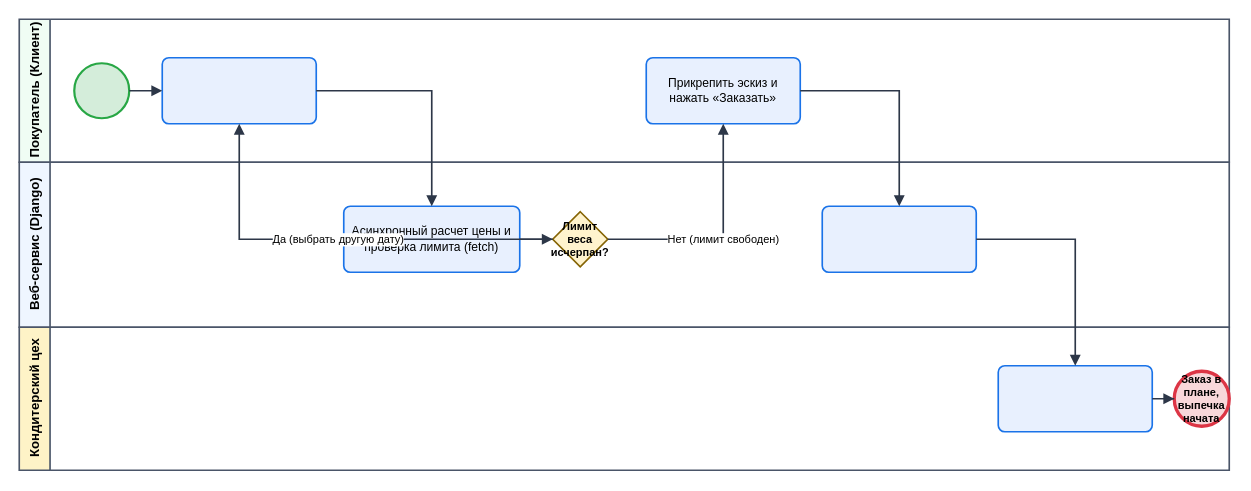
Image size: 1251x491. Some labels were removed from this diagram. Each missing label, with the box of its shape:
Вход на сайт: (73, 62, 130, 119)
Выбрать параметры и дату в конструкторе: (161, 56, 317, 124)
Запись в БД (atomic) и отправка email: (821, 205, 977, 273)
Распечатать техкарту с эскизом в 1 клик: (997, 364, 1153, 432)
